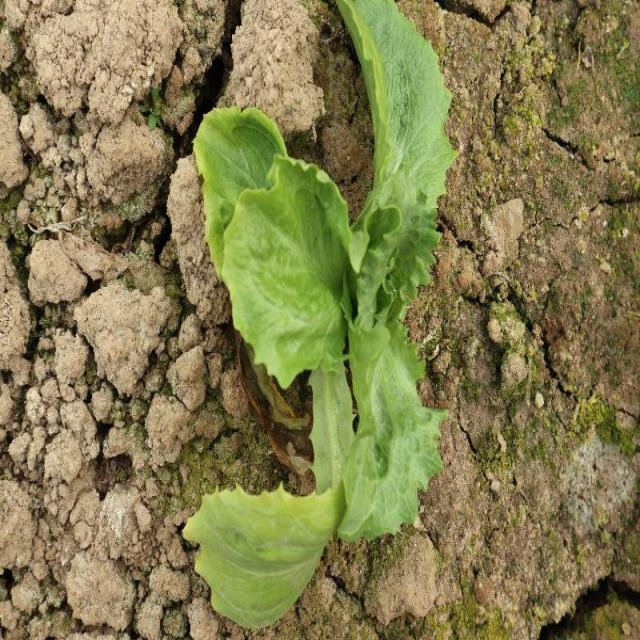crop: (181, 0, 460, 630)
